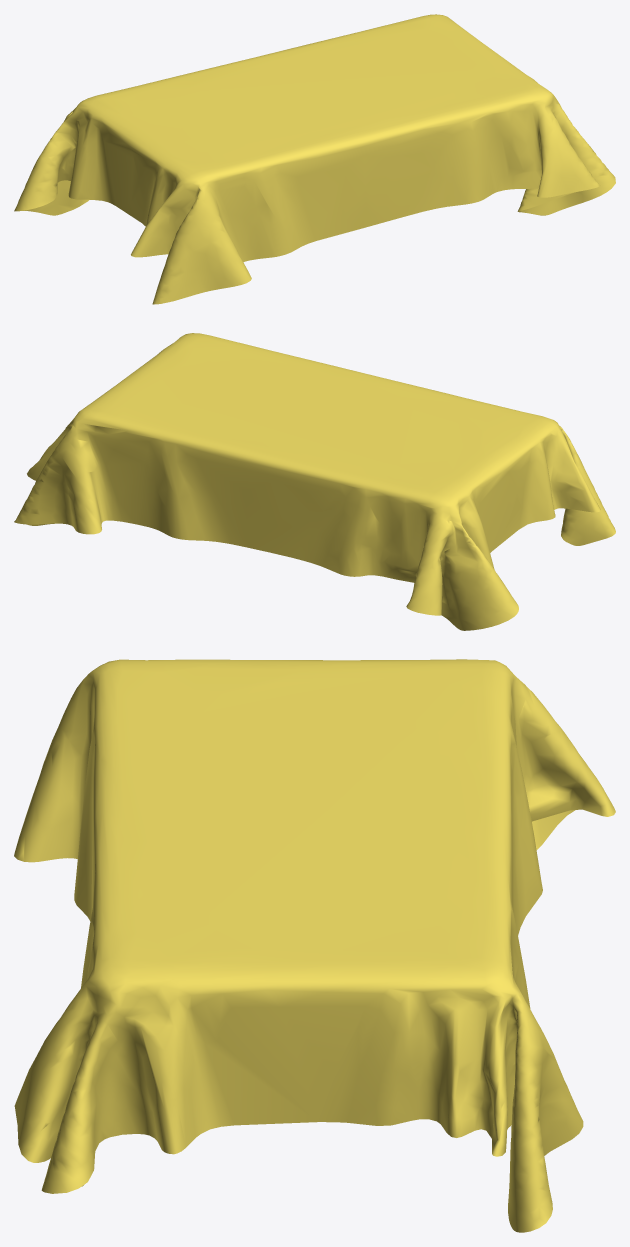
The model's file is tovaglia.fbx.
3 renders of one model, top to bottom at view 1: azimuth 30°, elevation 25°; view 2: azimuth 150°, elevation 25°; view 3: azimuth 270°, elevation 25°, orthographic. The views are drawn at different scales.
Visible parts, largest first — view 1: Plane.003; view 2: Plane.003; view 3: Plane.003.
Boxes of the visible parts, x1=… form: Plane.003: x1=14, y1=14, x2=615, y2=304; Plane.003: x1=14, y1=333, x2=615, y2=630; Plane.003: x1=14, y1=659, x2=615, y2=1232.
Size of the model in its own units: 207 by 49.29 by 123.
